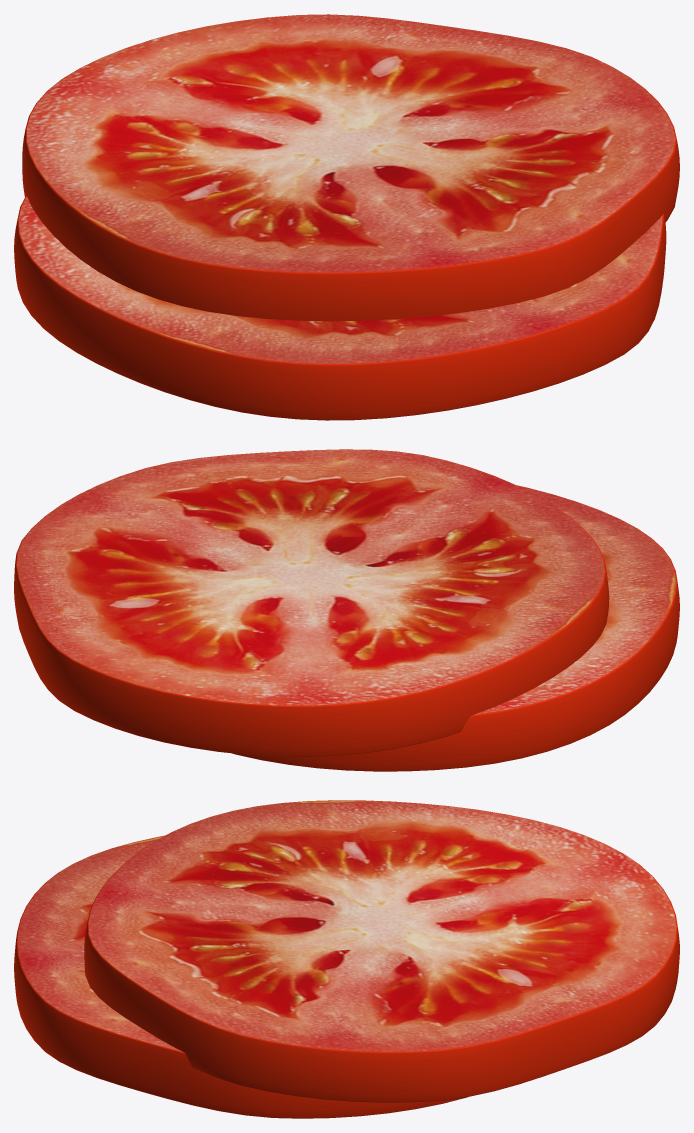
Rendered from tomato.gltf.
The picture shows the model from 3 angles, top to bottom: view 1: azimuth 30°, elevation 25°; view 2: azimuth 150°, elevation 25°; view 3: azimuth 270°, elevation 25°; orthographic projection. The views are drawn at different scales.
Visible parts, largest first — view 1: Cylinder.007, Cylinder.008; view 2: Cylinder.007, Cylinder.008; view 3: Cylinder.007, Cylinder.008.
Part boxes in pixels (x1,y1,x2,y2): Cylinder.007: [22, 14, 679, 321]; Cylinder.008: [14, 195, 666, 420]; Cylinder.007: [14, 449, 609, 756]; Cylinder.008: [232, 485, 679, 771]; Cylinder.007: [84, 800, 679, 1102]; Cylinder.008: [14, 835, 467, 1118].
Size of the model in its own units: 1.81 by 0.2935 by 1.89.
Materials: 2 (1 with a texture image).
